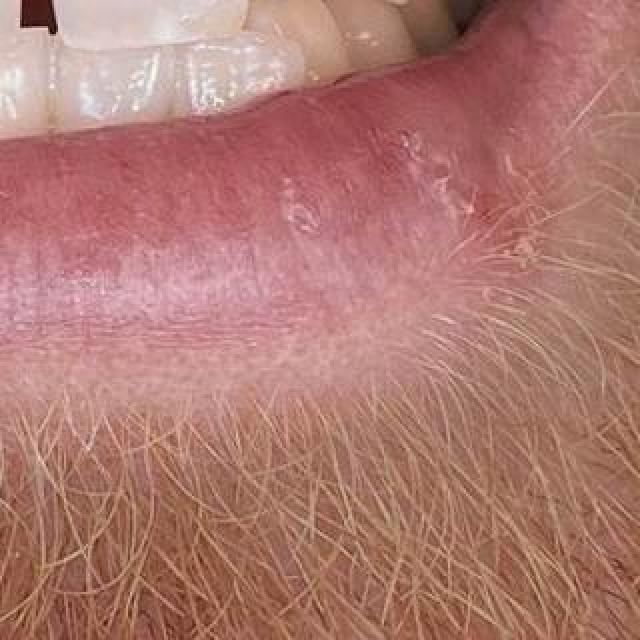maligned: (170, 23, 316, 123)
spacing: (0, 0, 86, 32)
